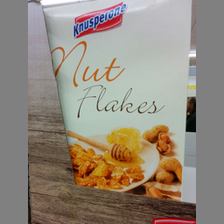cereal: (41, 1, 193, 201)
